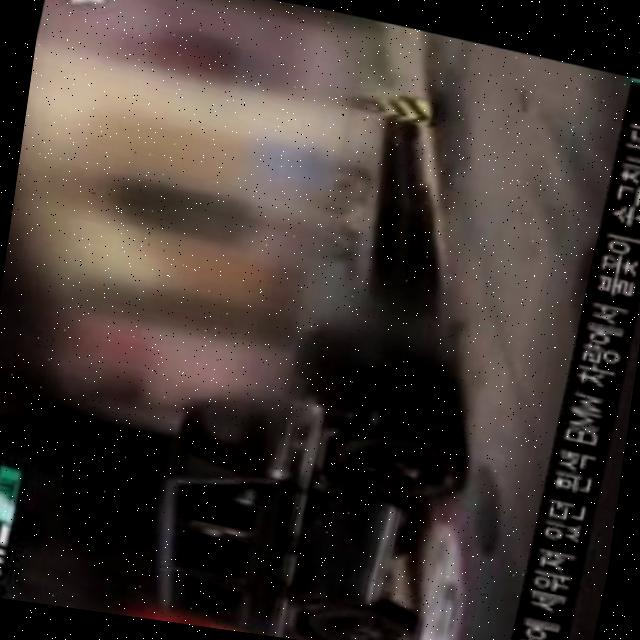fire: (99, 602, 281, 638)
